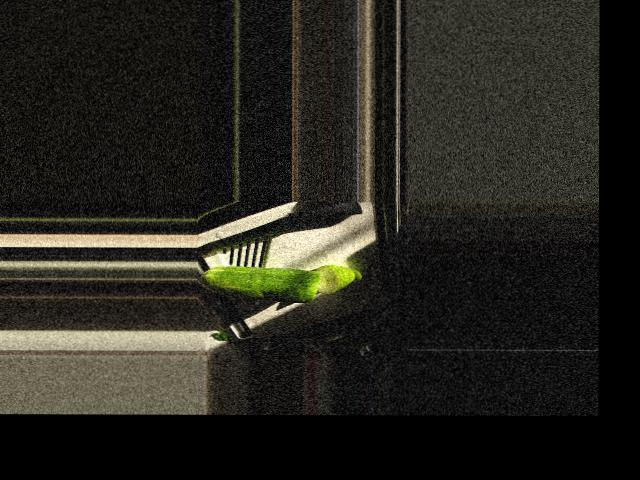cucumber: (200, 265, 321, 302)
